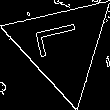L_E: (35, 24, 90, 66)
